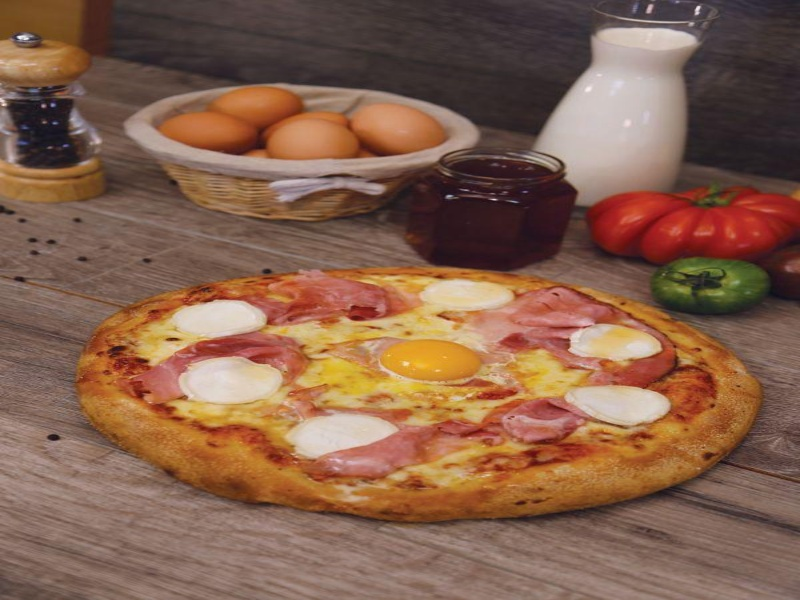oeuf: (368, 336, 492, 396)
